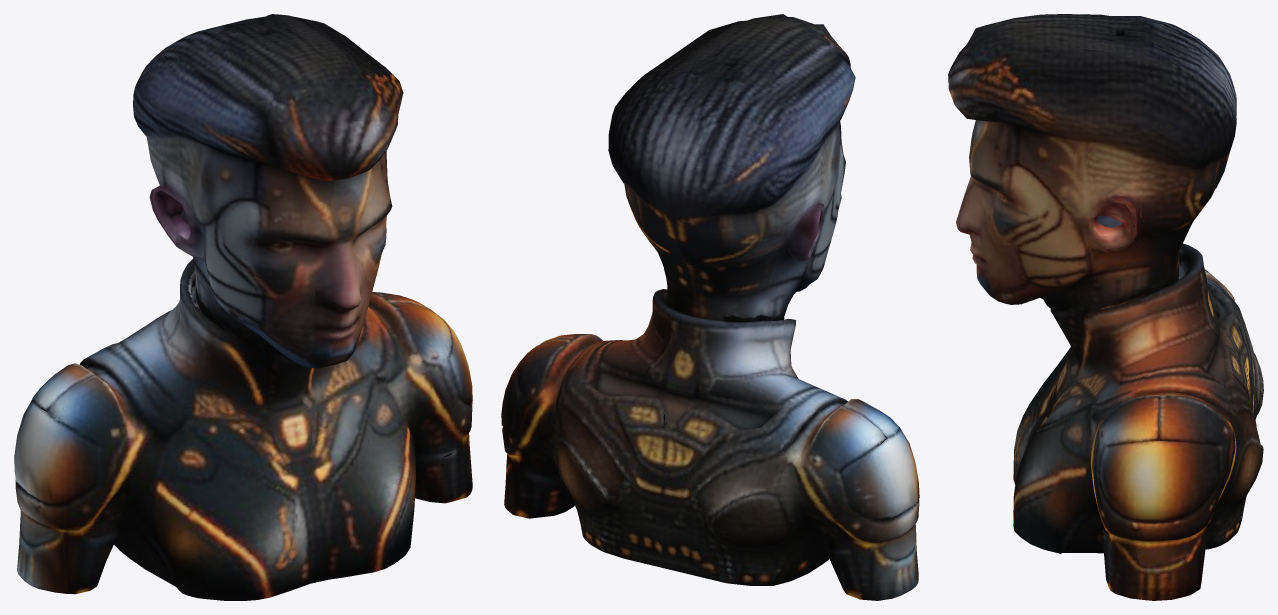
The model's file is modello.glb.
The picture shows the model from 3 angles, left to right: view 1: azimuth 30°, elevation 25°; view 2: azimuth 150°, elevation 25°; view 3: azimuth 270°, elevation 25°; orthographic projection. The views are drawn at different scales.
Visible parts, largest first — view 1: agente; view 2: agente; view 3: agente.
Part boxes in pixels (box(x1,y1,x2,y2)): agente: box(14, 14, 472, 600); agente: box(501, 14, 919, 600); agente: box(948, 14, 1263, 600).
Bounding box in the file's own units: 0.8885 × 1 × 0.6008.
1 material, 1 textured.
